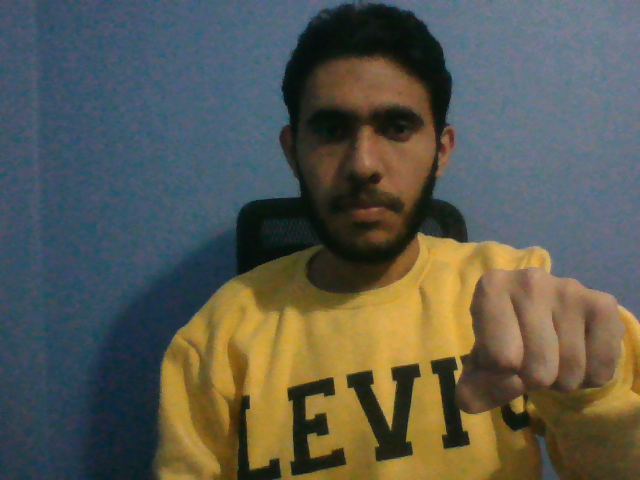yes: (451, 262, 618, 413)
